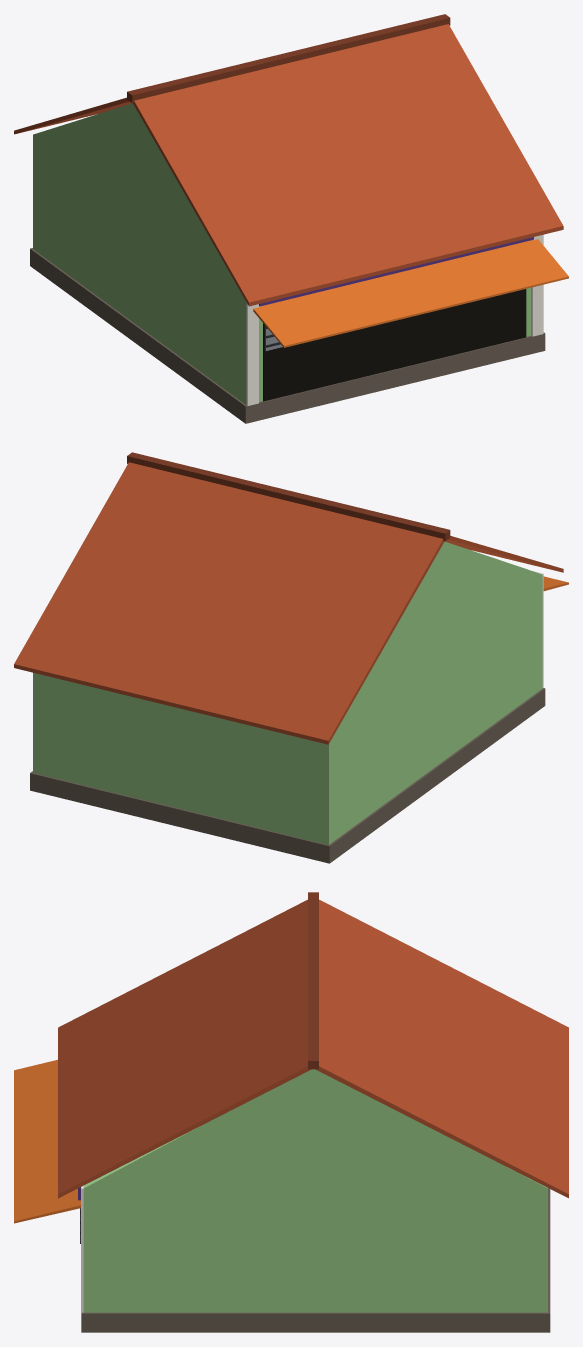
Rendered from bld_ot_shop_05.glb.
The picture shows the model from 3 angles, top to bottom: view 1: azimuth 30°, elevation 25°; view 2: azimuth 150°, elevation 25°; view 3: azimuth 270°, elevation 25°; orthographic projection. The views are drawn at different scales.
Parts seen in each view (by area): view 1: bld_ot_shop_05; view 2: bld_ot_shop_05; view 3: bld_ot_shop_05.
Part boxes in pixels (box(x1,y1,x2,y2)): bld_ot_shop_05: box(14, 14, 568, 423); bld_ot_shop_05: box(14, 452, 568, 863); bld_ot_shop_05: box(14, 892, 568, 1332).
Size of what is drawn, in the model's own units: 8.6 by 6.57 by 11.95.
